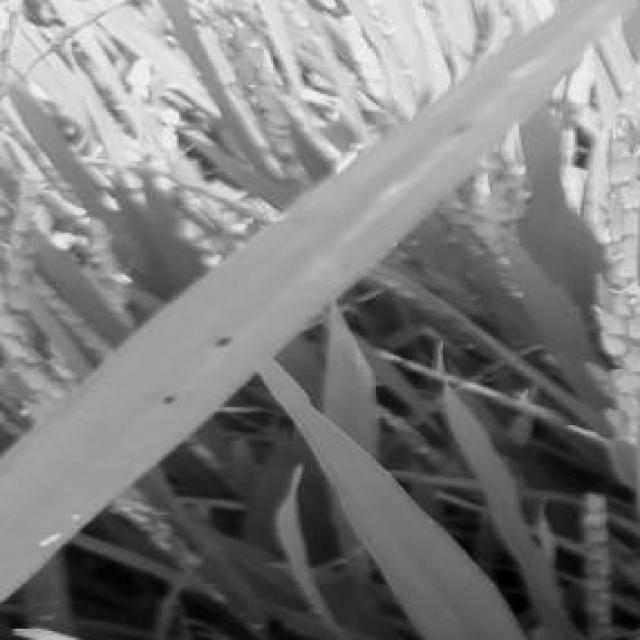Brown_Spot: (449, 112, 484, 139), (212, 324, 245, 352), (156, 385, 188, 412), (288, 208, 318, 232), (331, 253, 360, 277)
